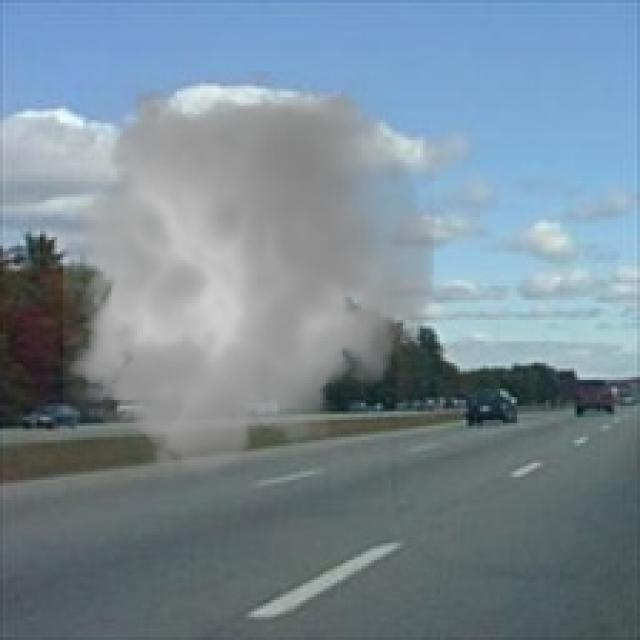Smoke: (46, 71, 448, 492)
